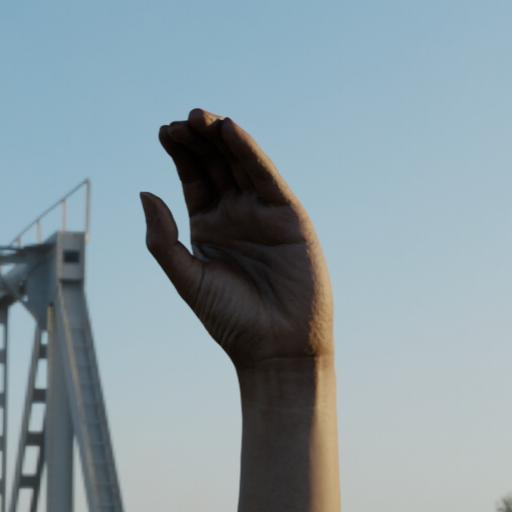C: (104, 68, 372, 388)
